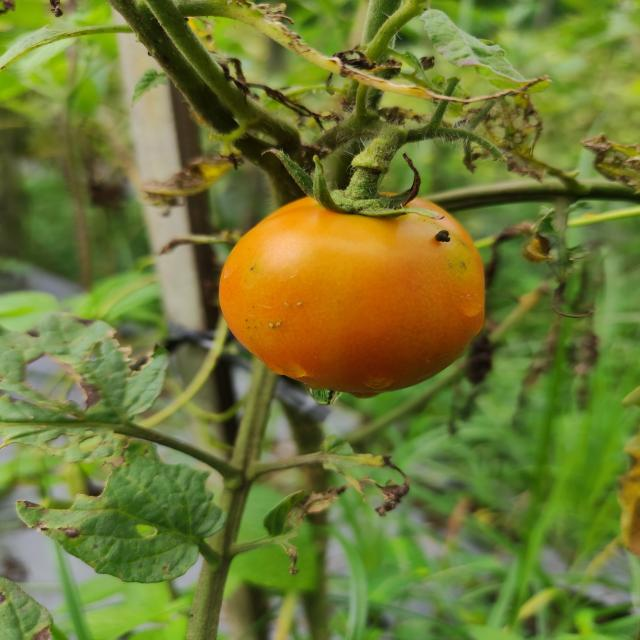ripe tomato: (217, 191, 487, 400)
